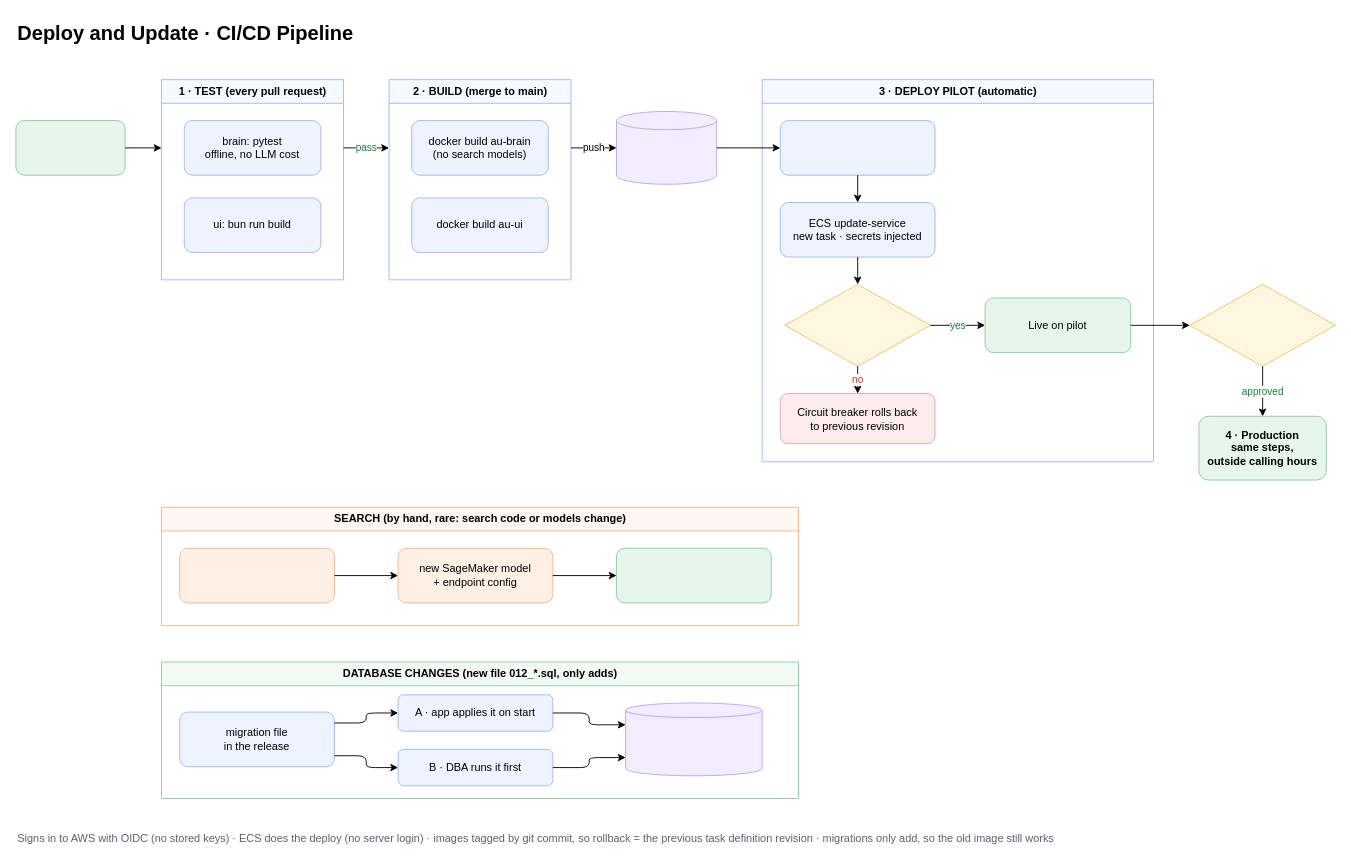
Image size: 1351x863. Some labels were removed from this diagram. Each missing label, with the centre of its shape:
Approval (named reviewer): (x=1262, y=324)
Developer pull request: (x=70, y=147)
docker build au-search (models inside): (x=256, y=575)
ECR tag = git commit: (x=666, y=147)
recorded in schema_migrations: (x=693, y=739)
Register new task definition revision: (x=857, y=147)
Service stable + /health/ready OK?: (x=857, y=324)
update-endpoint no downtime: (x=693, y=575)
